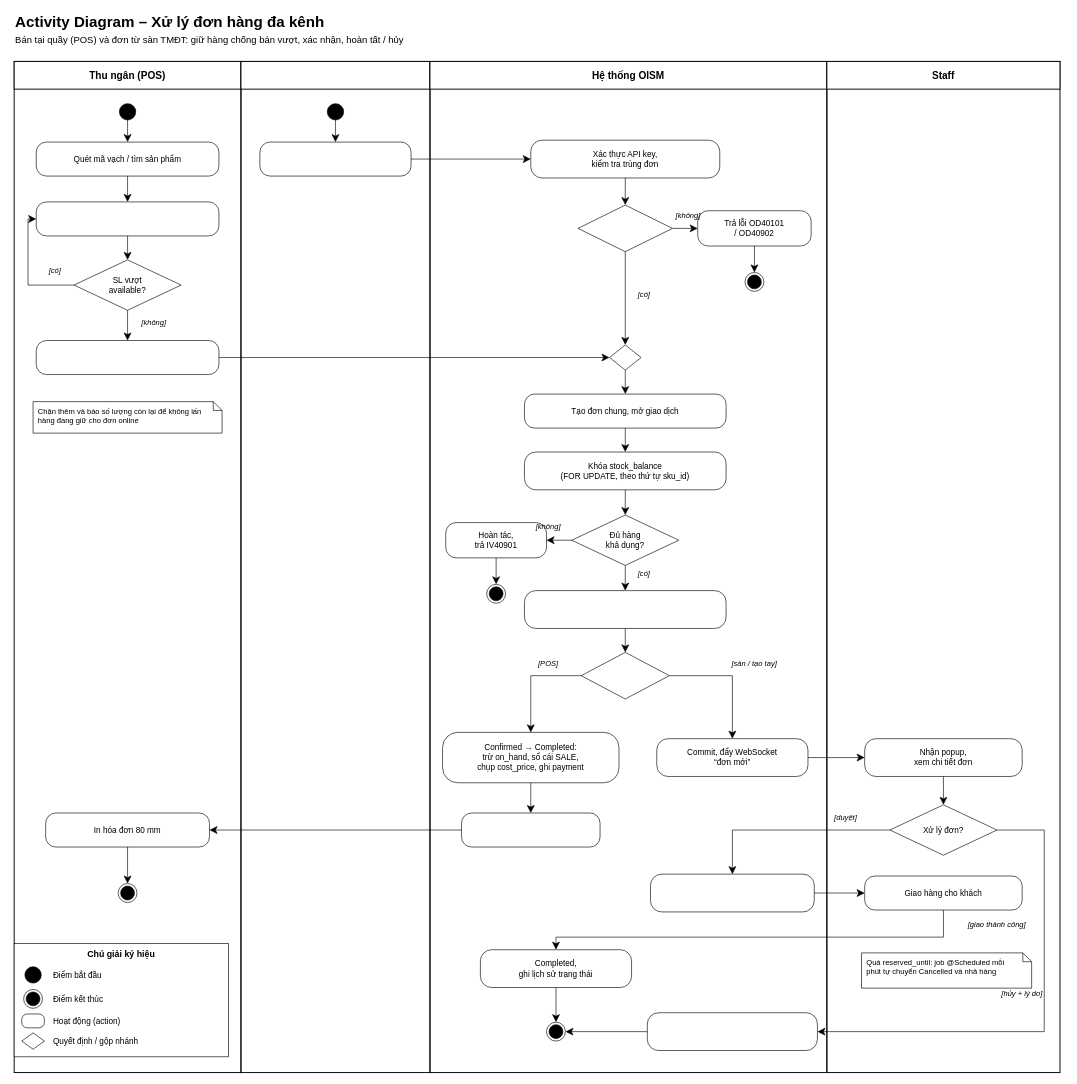
Some shapes in this 1077 by 1084 pixel diagram are drawn without their labels. Here are the shapes that lost their labels. From the top down, the centre of each, then its label:
point (335, 75): Sàn TMĐT
point (335, 158): Gửi đơn qua webhook
point (127, 218): Thêm vào giỏ, sửa số lượng
point (625, 228): Hợp lệ?
point (127, 357): Nhấn F9: chọn tiền mặt / QR
point (625, 609): Tăng reserved, đơn → Reserved, đặt reserved_until
point (625, 675): Kênh?
point (530, 829): Commit giao dịch
point (732, 892): Confirmed: trừ kho, sổ cái SALE, chụp cost_price
point (732, 1031): Cancelled: nhả reserved, ghi lịch sử trạng thái
